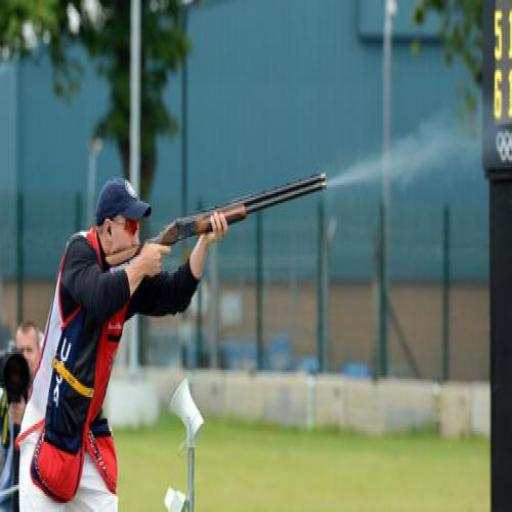shooting: (14, 174, 230, 510)
